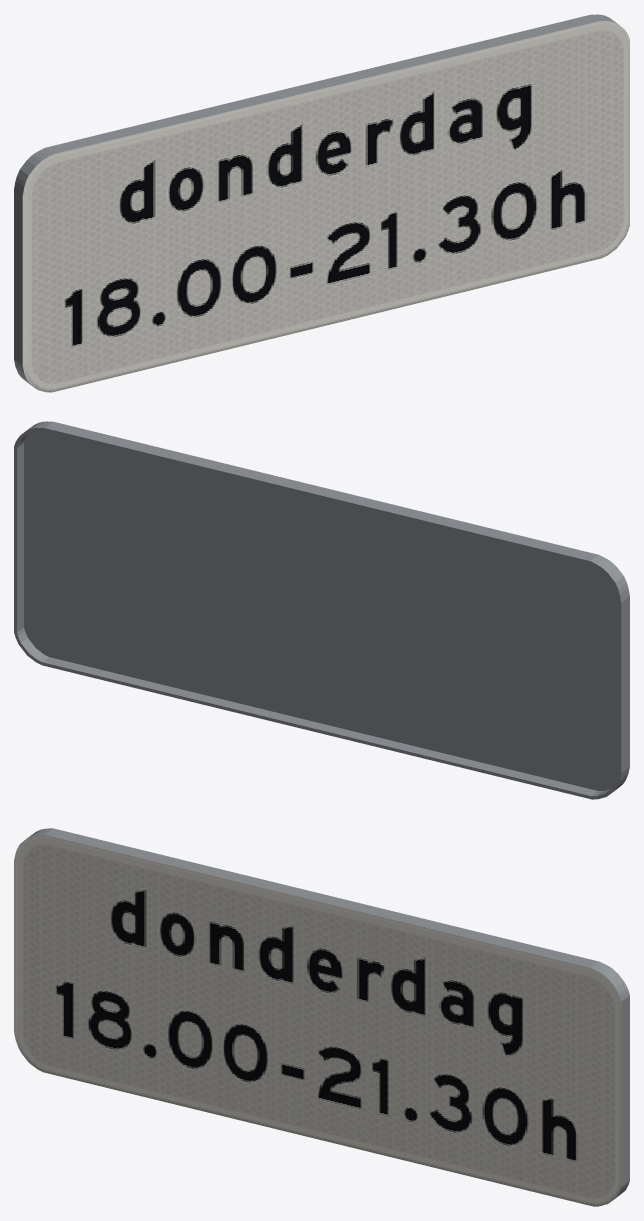
3 renders of one model, top to bottom at view 1: azimuth 30°, elevation 25°; view 2: azimuth 150°, elevation 25°; view 3: azimuth 330°, elevation 25°, orthographic.
Parts seen in each view (by area): view 1: cat_d9ae922abf6f2ee4; view 2: cat_d9ae922abf6f2ee4; view 3: cat_d9ae922abf6f2ee4.
Part boxes in pixels (x1=…): cat_d9ae922abf6f2ee4: x1=14, y1=14, x2=629, y2=392; cat_d9ae922abf6f2ee4: x1=14, y1=421, x2=629, y2=799; cat_d9ae922abf6f2ee4: x1=14, y1=828, x2=629, y2=1206.
Bounding box in the file's own units: 0.6 × 0.015 × 0.2246.
Materials: 2 (1 with a texture image).
